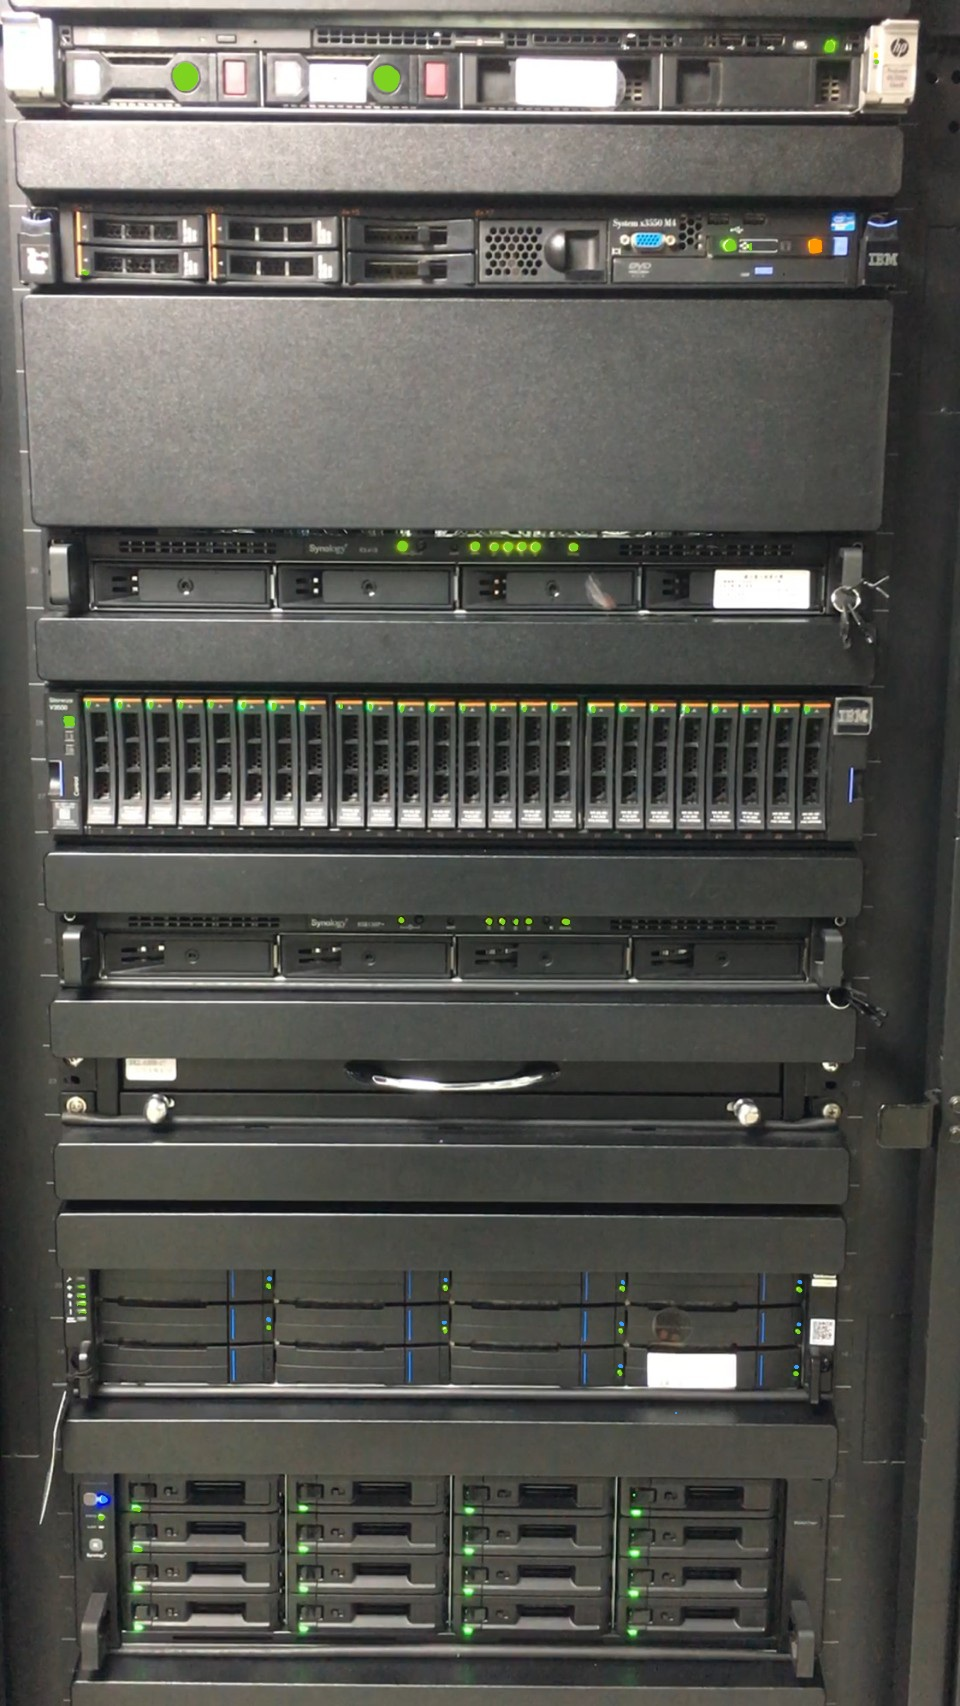HDD_Notused: (339, 247, 478, 288), (348, 209, 476, 251)
HDD_normal: (72, 243, 210, 291)
HDD_shut down: (202, 243, 342, 289), (207, 213, 339, 254), (75, 213, 203, 248)
